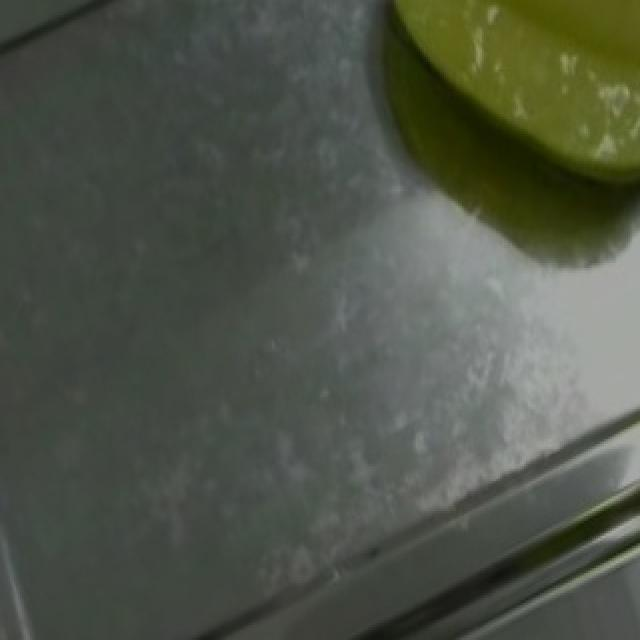fruit: (358, 0, 638, 226)
